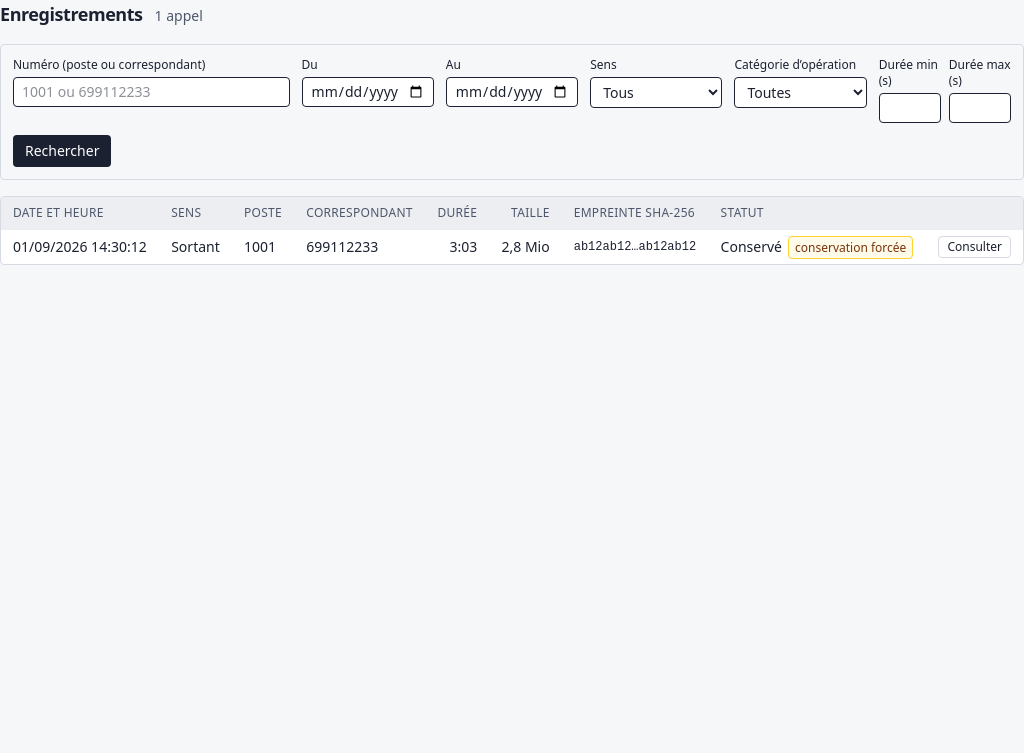
Scenario: conservation forcée au portail › annonce la mesure même quand son détail ne se charge pas
The width and height of the screenshot is (1024, 753).
Click the button with aria-label "Consulter l’appel" at [975, 247], box 938,236 -> 1011,258
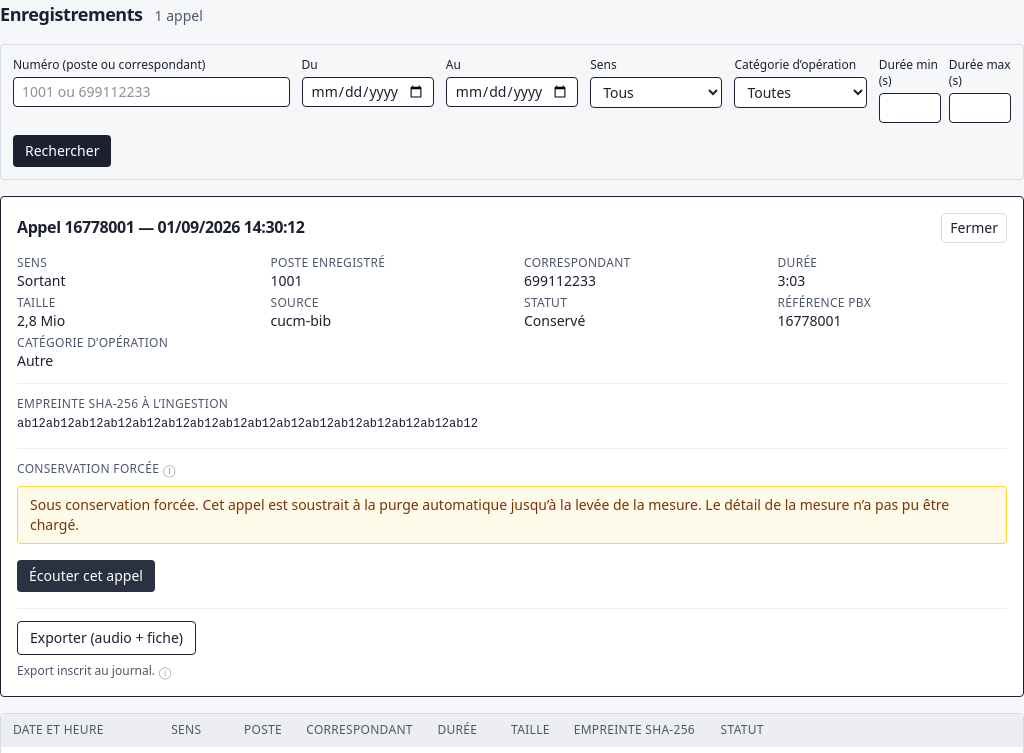
Expected: the message shows "Sous conservation forcée", 30,495 -> 199,514
Expected: the message shows "n’a pas pu être chargé", 30,495 -> 949,534
